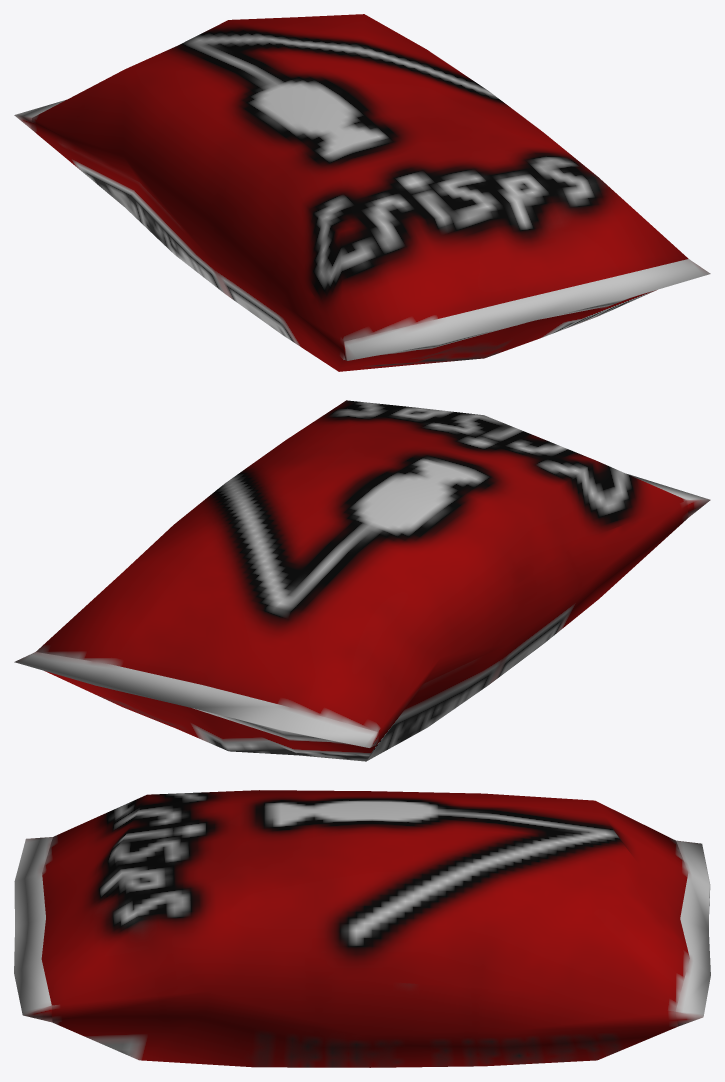
File: crisps.fbx
The picture shows the model from 3 angles, top to bottom: view 1: azimuth 30°, elevation 25°; view 2: azimuth 150°, elevation 25°; view 3: azimuth 270°, elevation 25°; orthographic projection.
Parts seen in each view (by area): view 1: crisps; view 2: crisps; view 3: crisps.
Part boxes in pixels (x1=…): crisps: x1=14, y1=14, x2=710, y2=371; crisps: x1=14, y1=400, x2=710, y2=761; crisps: x1=14, y1=790, x2=710, y2=1067.
Size of the model in its own units: 9.36 by 5.07 by 15.61.
1 material, 1 textured.
